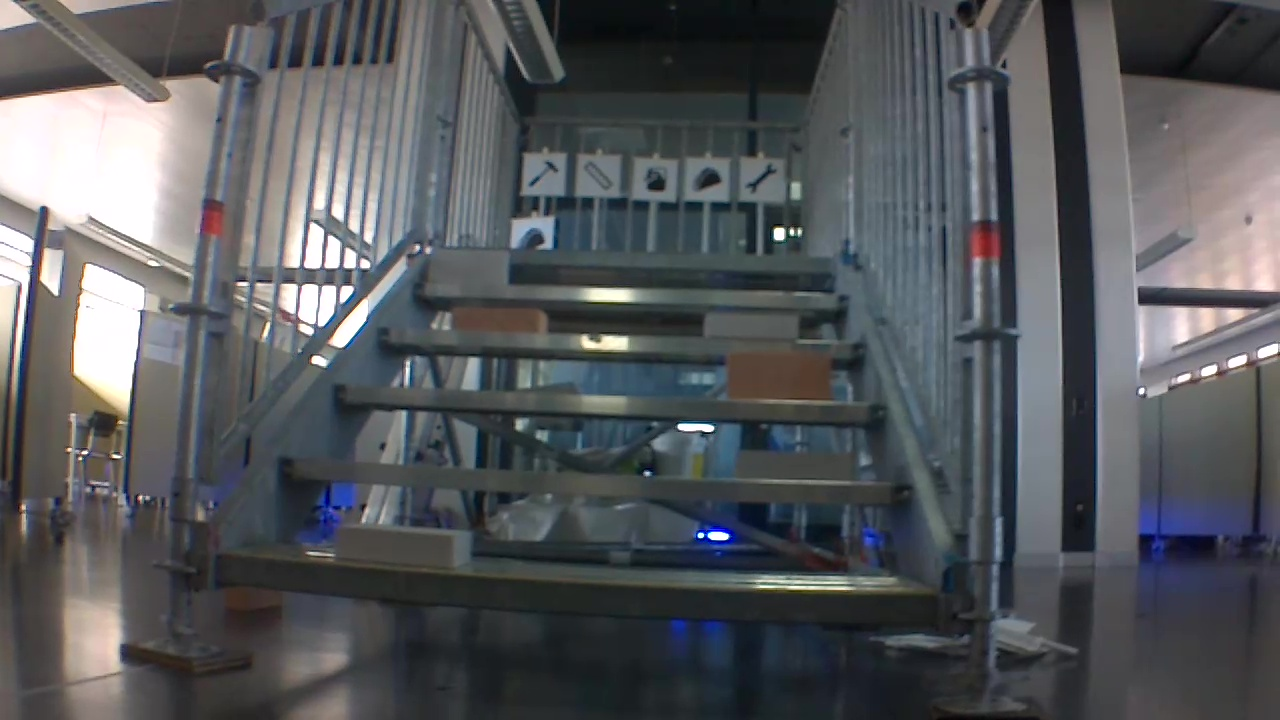brick: (328, 522, 478, 563), (721, 354, 832, 400), (731, 444, 856, 476), (425, 251, 508, 282), (446, 307, 551, 331), (697, 315, 802, 337)
bucket: (636, 165, 671, 194)
edge: (218, 555, 941, 631), (277, 457, 917, 504), (329, 383, 885, 425), (376, 328, 867, 359), (414, 280, 854, 311), (442, 248, 834, 272)
hammer: (528, 157, 563, 186)
ruler: (584, 162, 614, 190)
stairs: (184, 0, 981, 718)
steps: (197, 251, 951, 619)
taco: (689, 165, 725, 191), (520, 226, 547, 247)
wrench: (743, 162, 781, 194)
